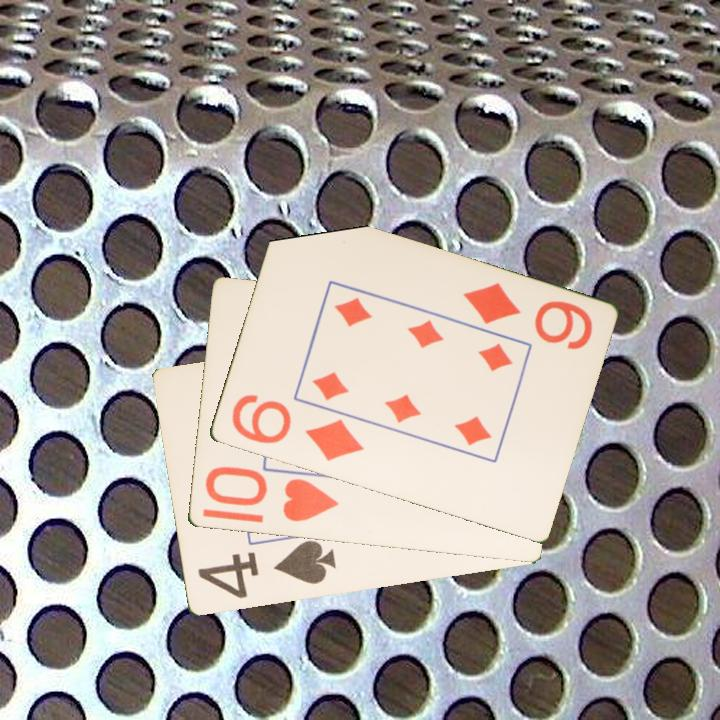10h: (200, 466, 341, 525)
4s: (194, 537, 339, 602)
6d: (227, 391, 367, 465), (459, 279, 595, 353)
